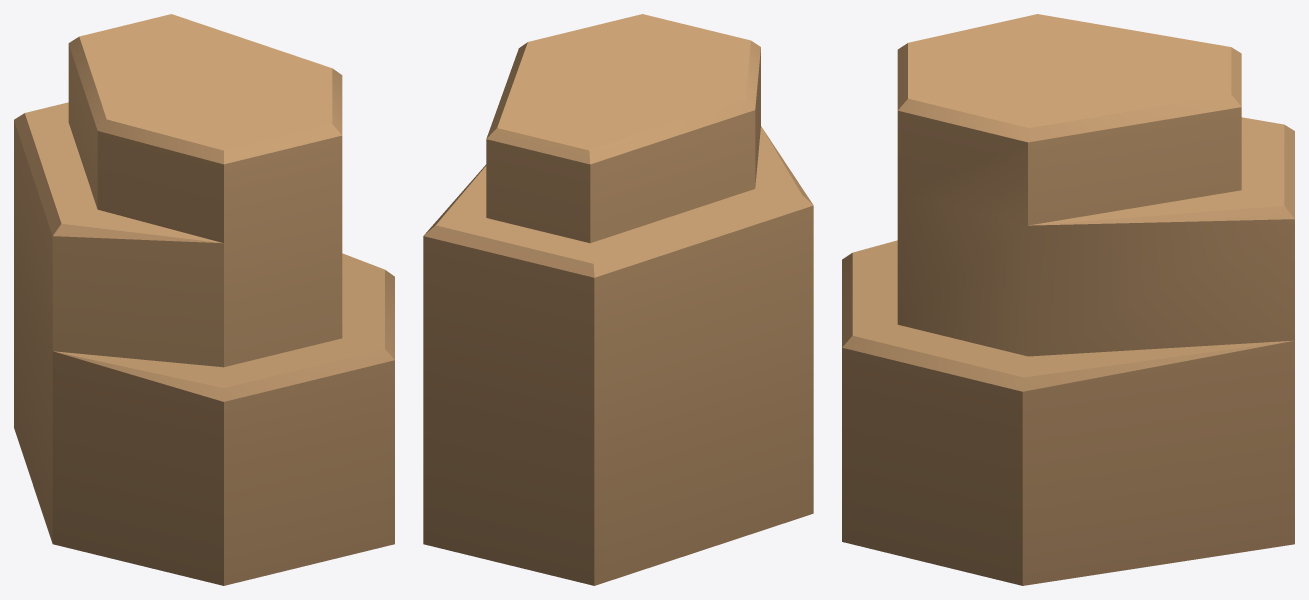
The model's file is Rock_1_E_Sand.glb.
3 renders of one model, left to right at view 1: azimuth 30°, elevation 25°; view 2: azimuth 150°, elevation 25°; view 3: azimuth 270°, elevation 25°, orthographic. The views are drawn at different scales.
Parts seen in each view (by area): view 1: Rock_1_E_Color1; view 2: Rock_1_E_Color1; view 3: Rock_1_E_Color1.
Boxes of the visible parts, <box> form: Rock_1_E_Color1: <box>14,14,394,585</box>; Rock_1_E_Color1: <box>423,14,813,585</box>; Rock_1_E_Color1: <box>842,14,1294,585</box>.
Bounding box in the file's own units: 1 × 1.13 × 1.09.
Materials: 1 (1 with a texture image).
